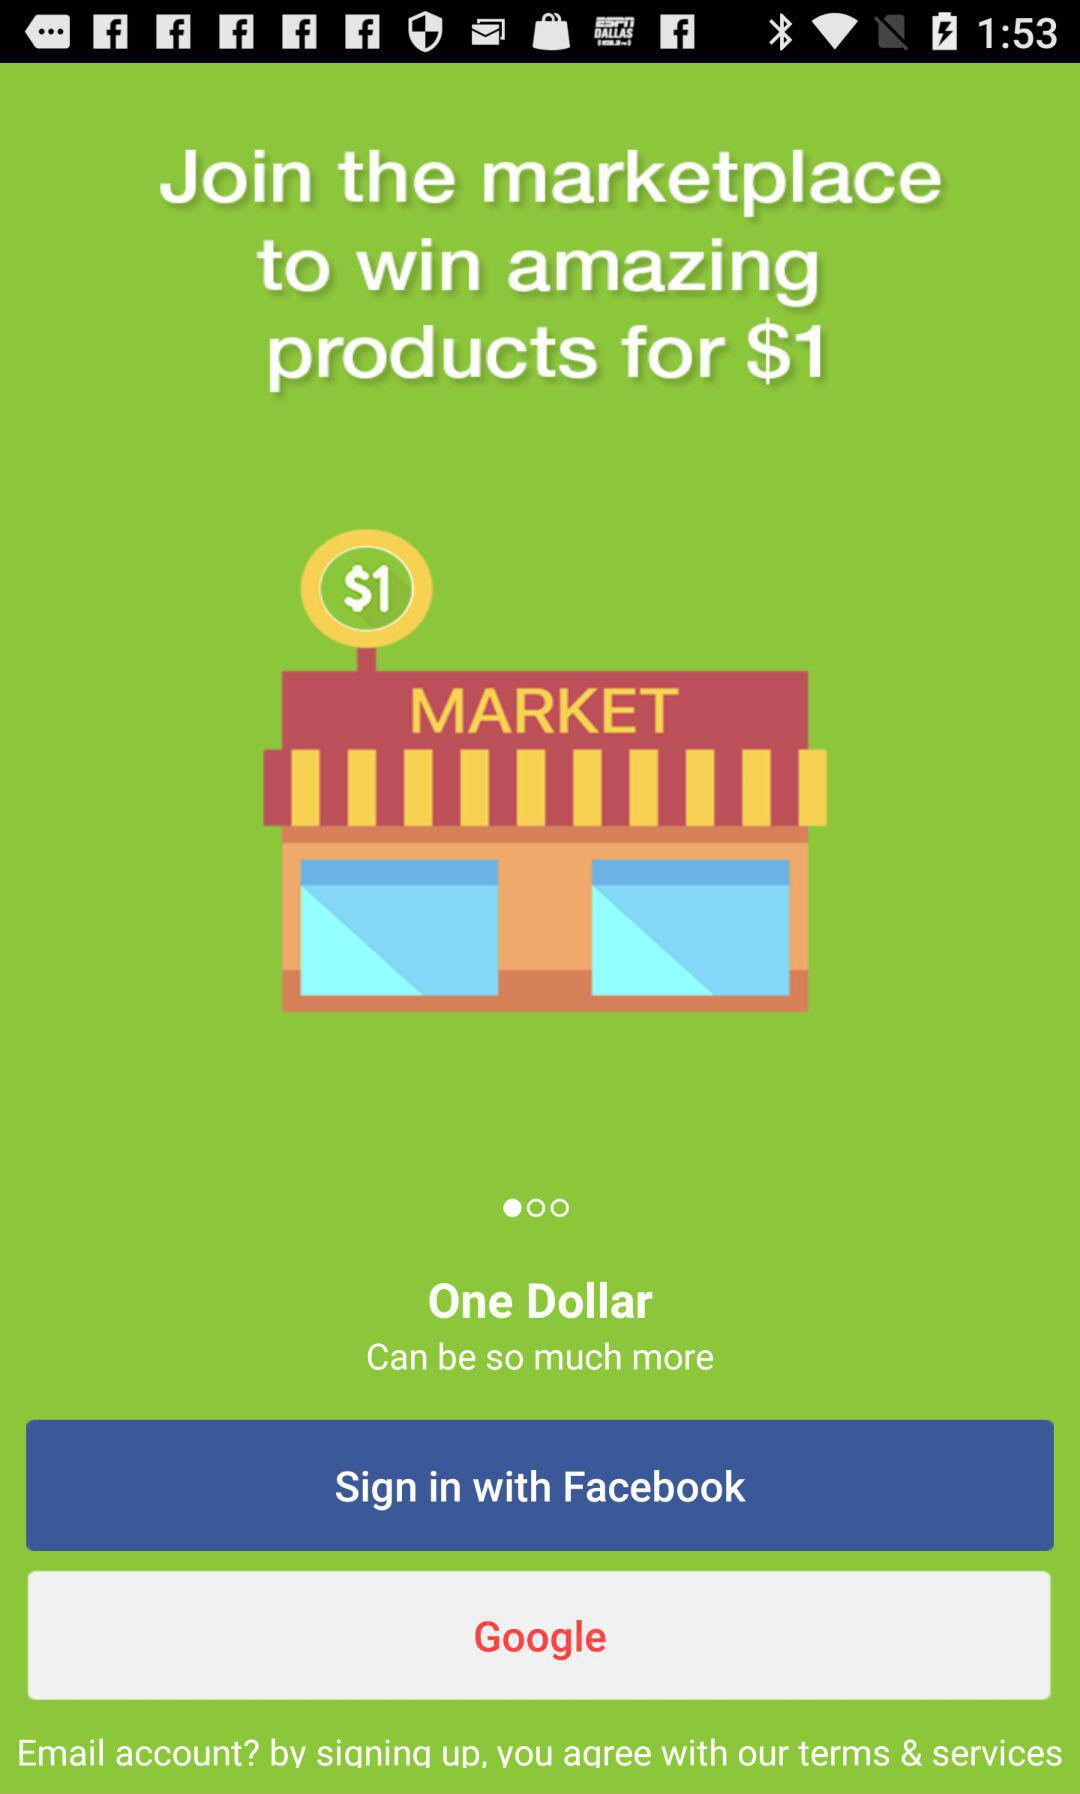Image: (259, 524, 828, 1014)
PageIndicator: (502, 1197, 571, 1219)
Text: (158, 147, 945, 395), (19, 1738, 1063, 1768), (366, 1340, 715, 1372), (428, 1281, 653, 1320)
TextButton: (26, 1420, 1054, 1551), (27, 1570, 1051, 1700)
UpperTaskBar: (1, 1, 1080, 64)
